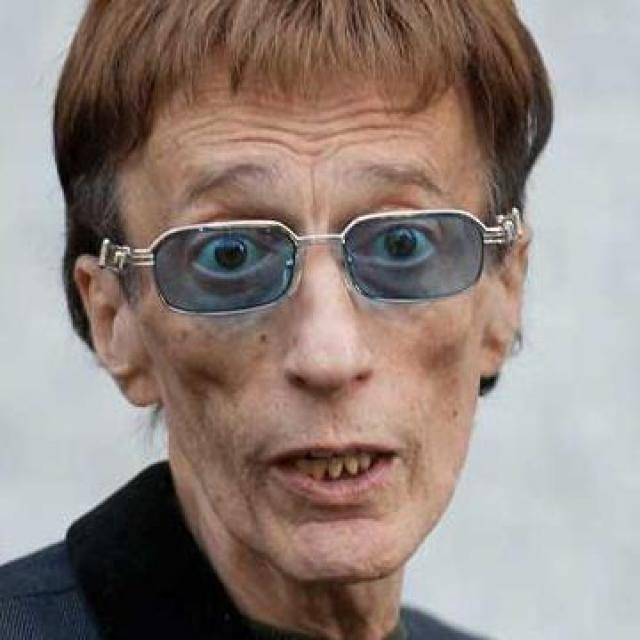surprised: (133, 89, 503, 599)
